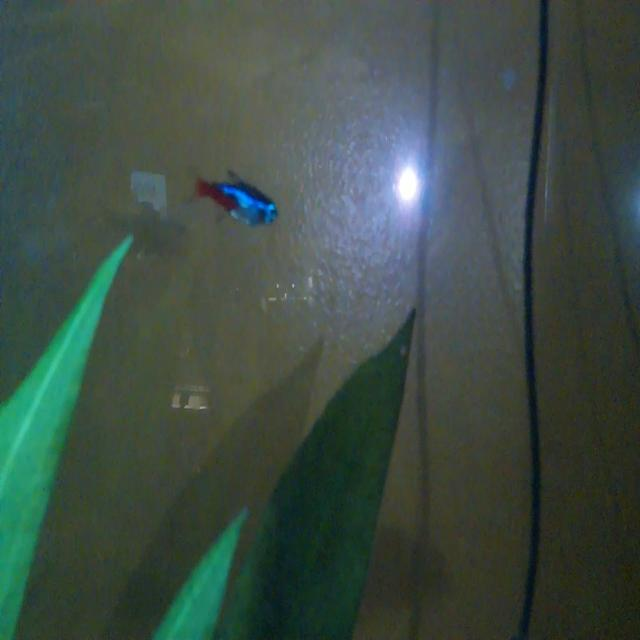fish: (190, 164, 289, 239)
